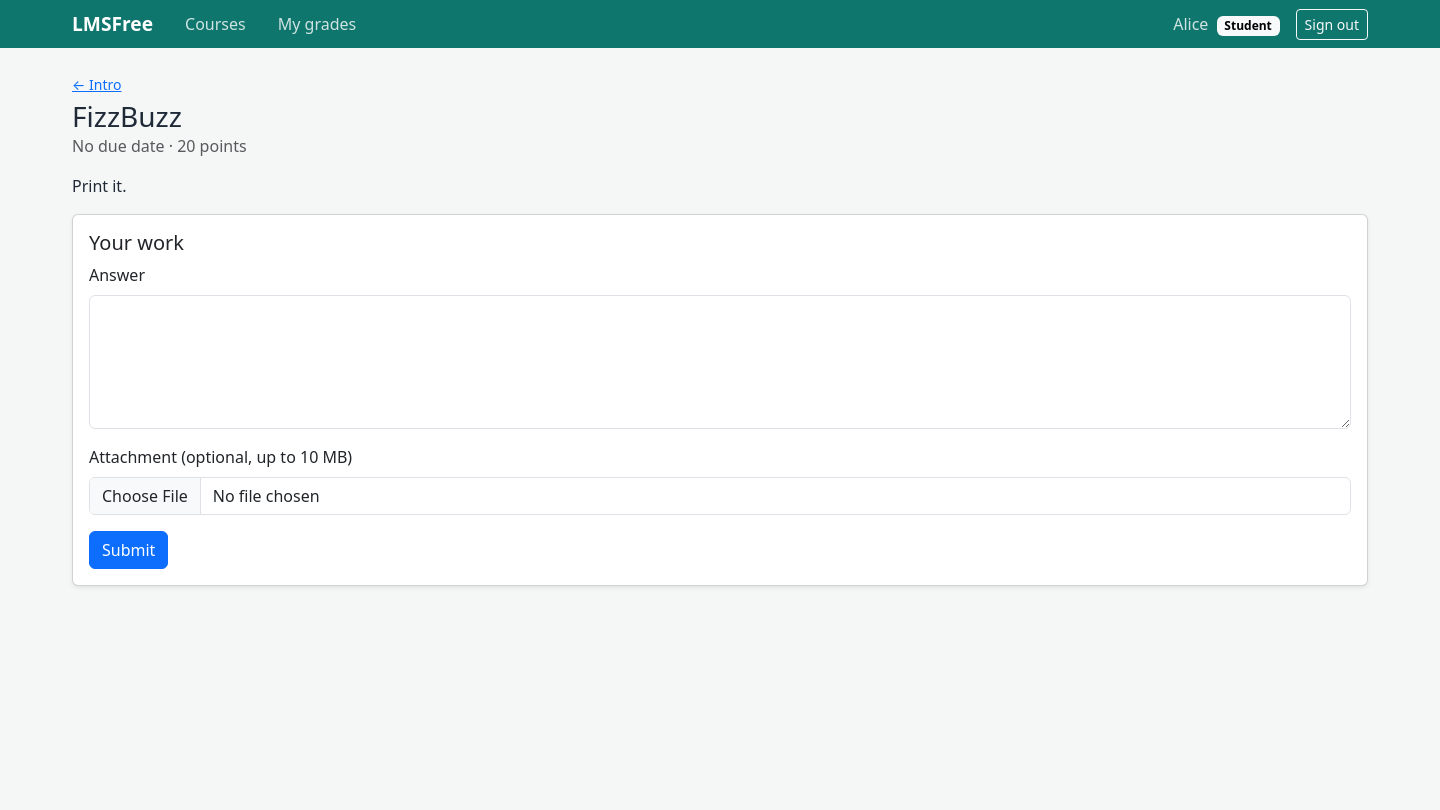
Scenario: AssignmentPage › lets a student submit text
Type "done" into the text box labelled "Answer" at coordinates (720, 362), box [89,295,1351,429]
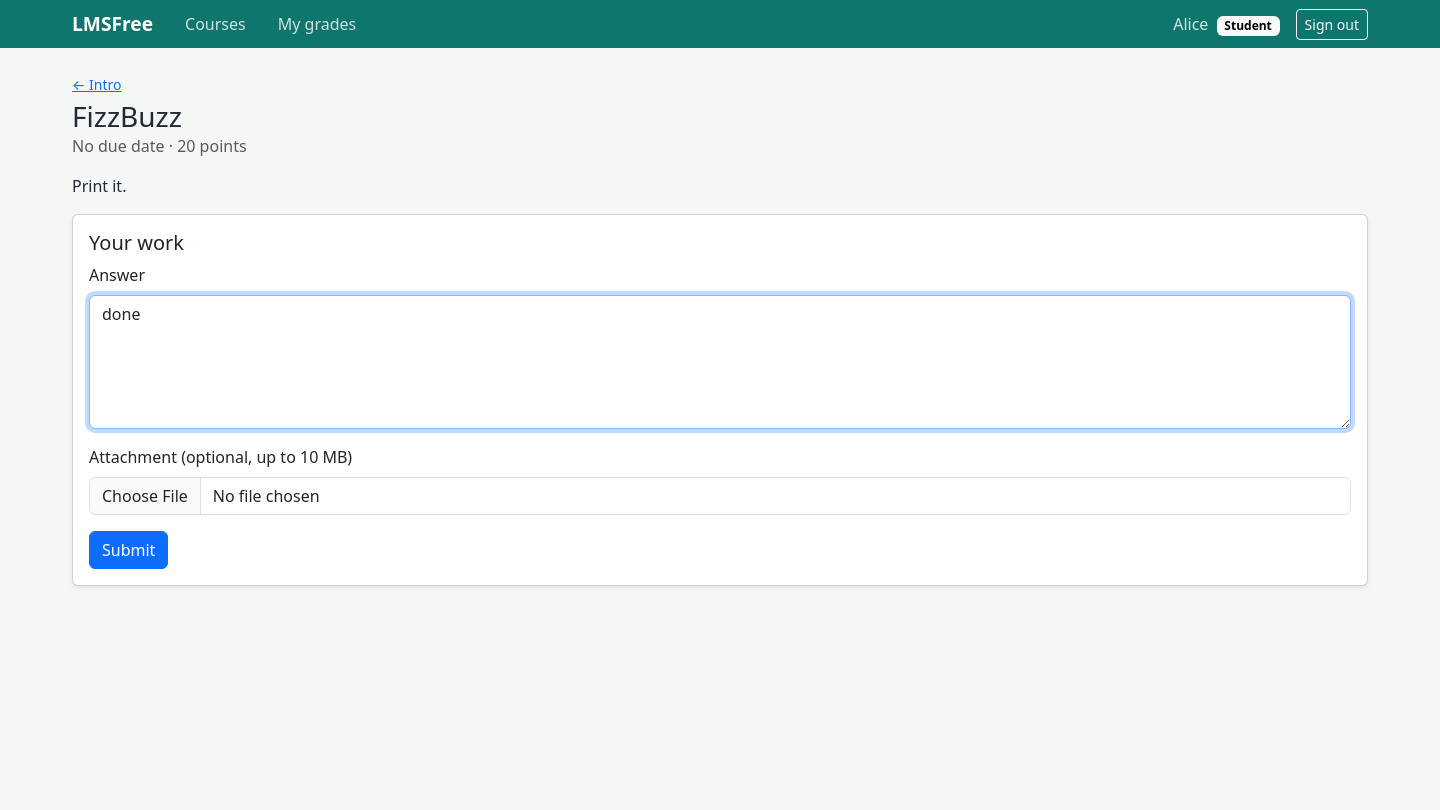
Click the button "Submit" at coordinates (129, 550), box [89,531,168,569]
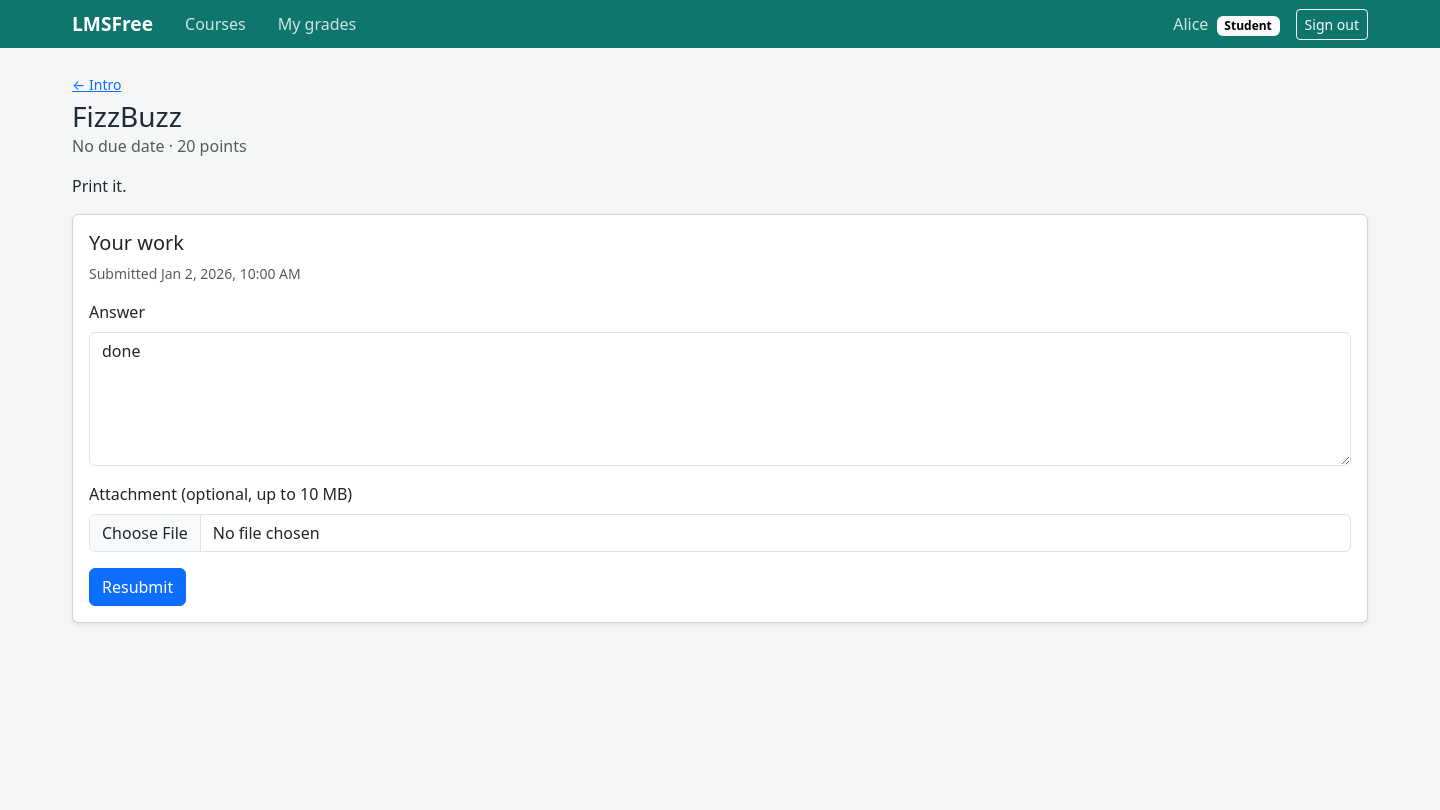
Expected: the button "Resubmit" is shown, [89,568,186,606]
